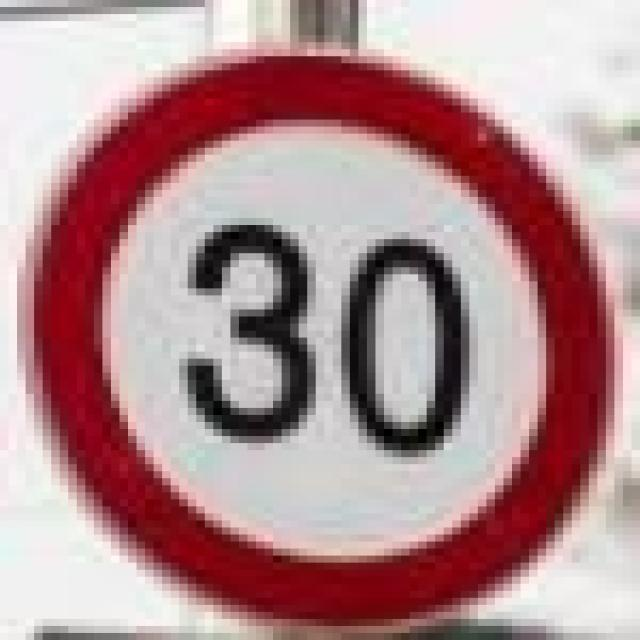speed limit 30: (18, 50, 614, 618)
